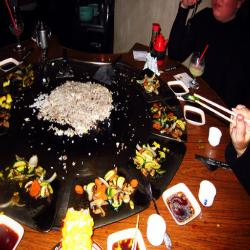rice: (37, 78, 116, 141)
